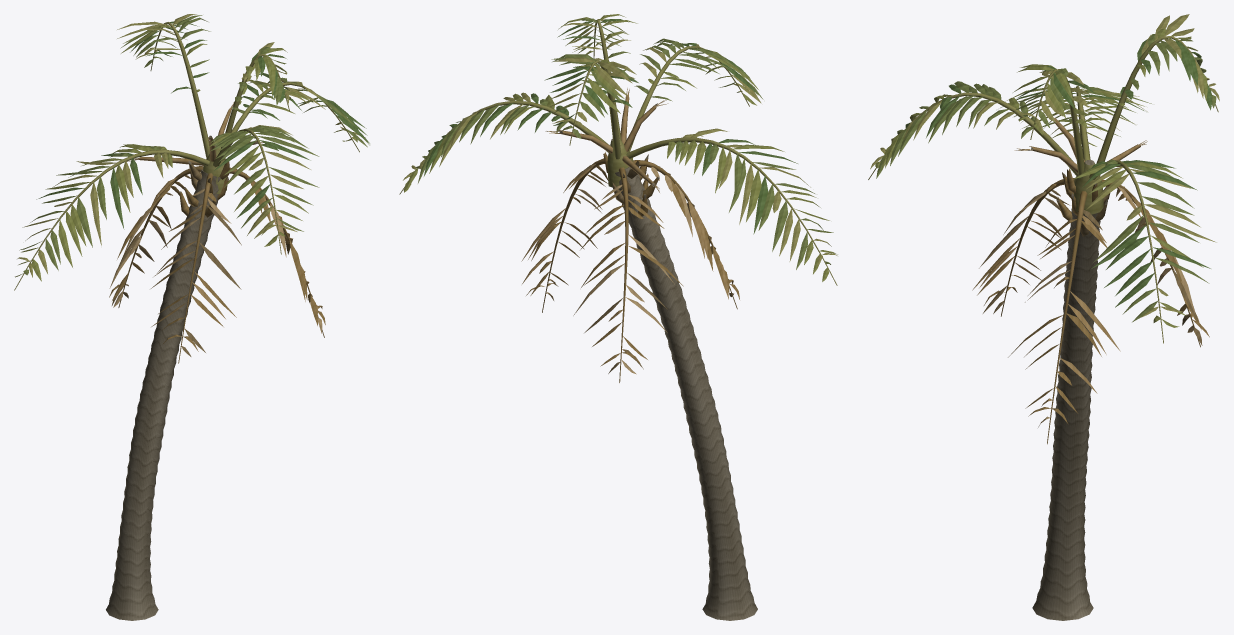
Rendered from palm_fl_leaning.glb.
3 renders of one model, left to right at view 1: azimuth 30°, elevation 25°; view 2: azimuth 150°, elevation 25°; view 3: azimuth 270°, elevation 25°, orthographic. The views are drawn at different scales.
Parts seen in each view (by area): view 1: Leaning_Damaged_Feather_Palm; view 2: Leaning_Damaged_Feather_Palm; view 3: Leaning_Damaged_Feather_Palm.
Boxes of the visible parts, x1=… form: Leaning_Damaged_Feather_Palm: x1=14, y1=14, x2=369, y2=620; Leaning_Damaged_Feather_Palm: x1=399, y1=14, x2=837, y2=620; Leaning_Damaged_Feather_Palm: x1=868, y1=14, x2=1219, y2=620.
Size of the model in its own units: 4.67 by 6.27 by 3.22.
Materials: 1 (1 with a texture image).
